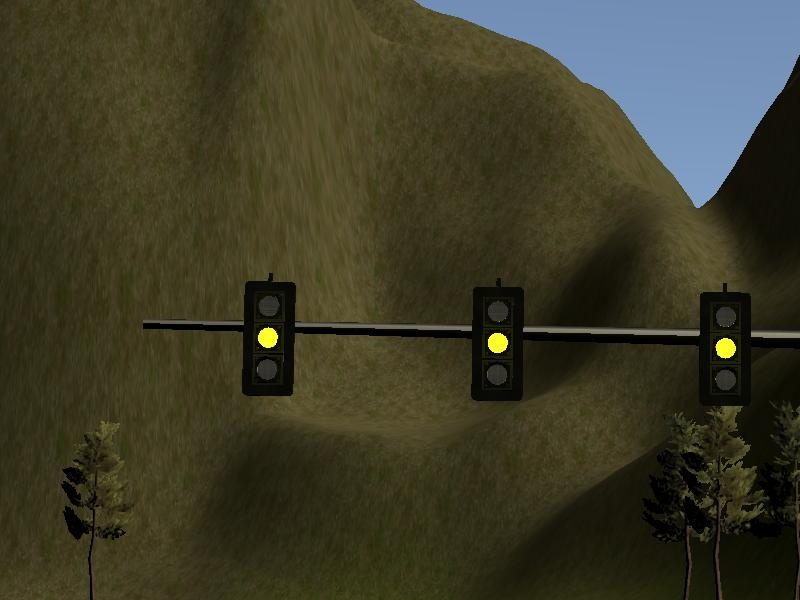YELLOW: (697, 290, 750, 407), (469, 282, 522, 399), (241, 279, 294, 396)
